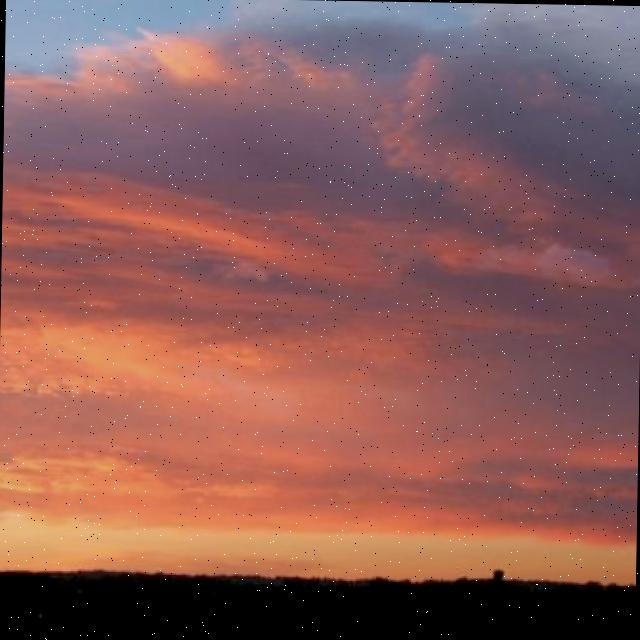As: (1, 10, 640, 506)
